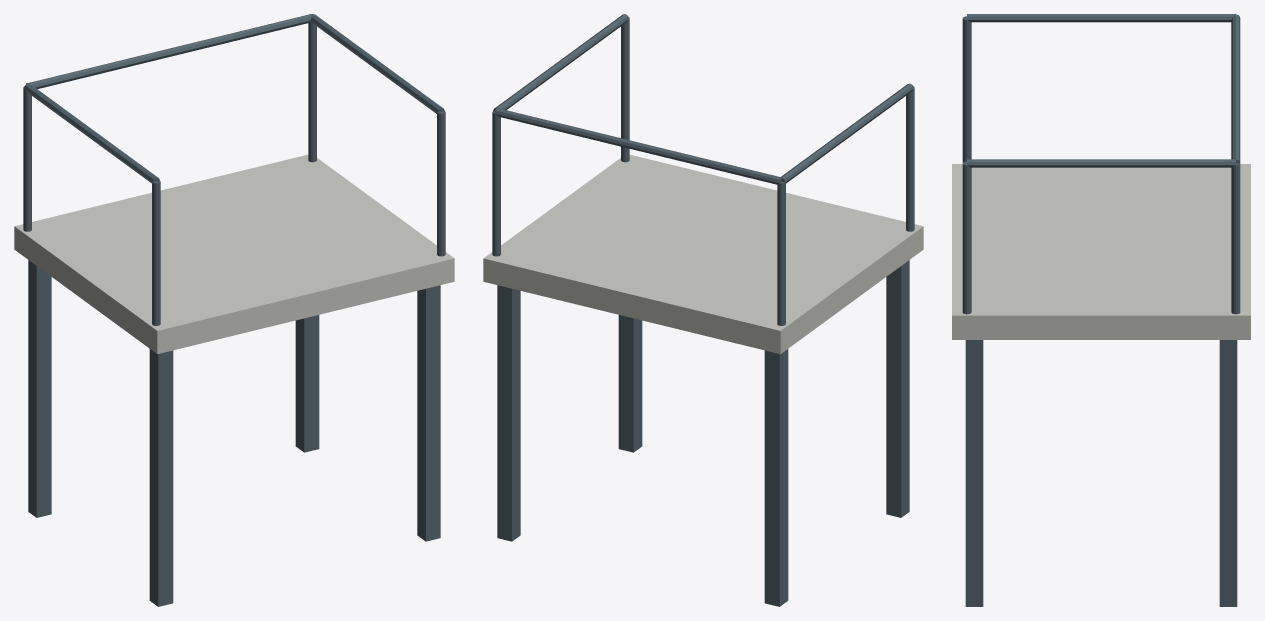
File: football-soccer-club-grounds-camera-platform-81d16afb.glb
3 renders of one model, left to right at view 1: azimuth 30°, elevation 25°; view 2: azimuth 150°, elevation 25°; view 3: azimuth 270°, elevation 25°, orthographic. The views are drawn at different scales.
Parts seen in each view (by area): view 1: camera-platform; view 2: camera-platform; view 3: camera-platform.
Boxes of the visible parts, <box> form: camera-platform: <box>14,14,454,606</box>; camera-platform: <box>483,14,923,606</box>; camera-platform: <box>952,14,1250,606</box>.
Bounding box in the file's own units: 2.4 × 3.31 × 2.
